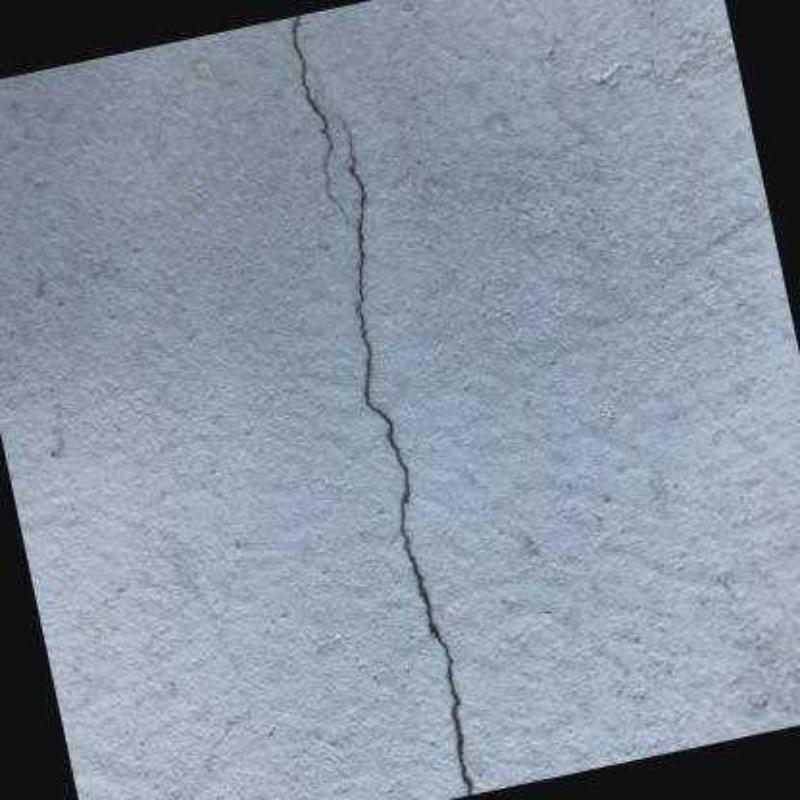crack: (337, 114, 469, 795), (289, 13, 346, 223)
